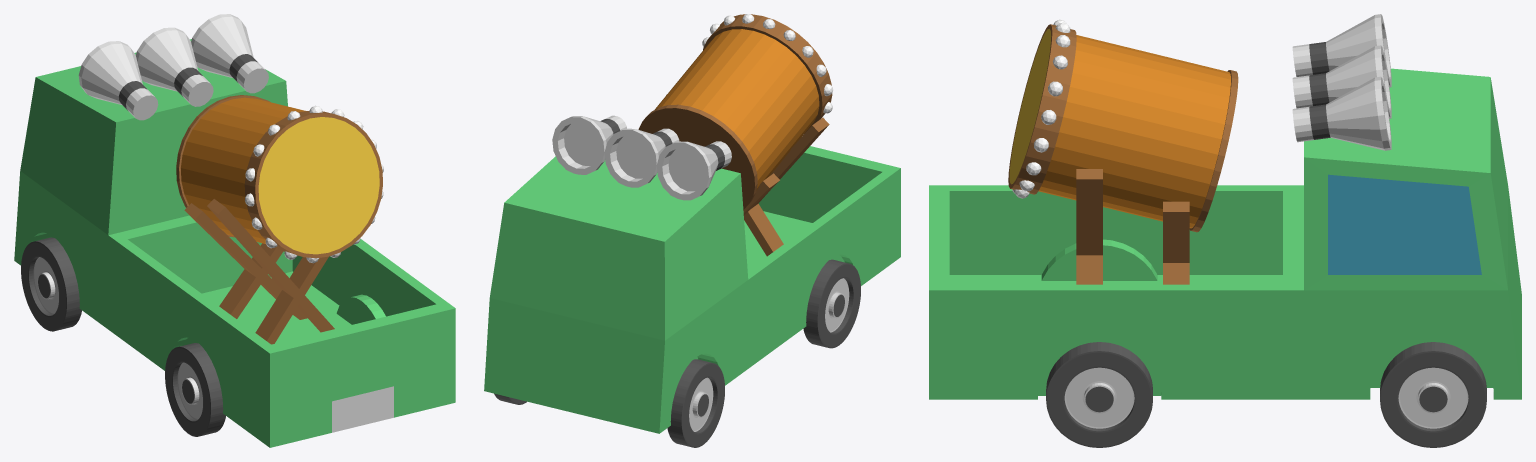
The model's file is bedug.gltf.
3 views of the same model, side by side, from view 1: azimuth 30°, elevation 25°; view 2: azimuth 150°, elevation 25°; view 3: azimuth 270°, elevation 25° (orthographic). The views are drawn at different scales.
Visible parts, largest first — view 1: Cube.001, Cylinder, Cylinder.004, Cube, Cylinder.002, Cylinder.003, Icosphere, Cylinder.001; view 2: Cube.001, Cylinder, Cylinder.004, Cylinder.002, Cylinder.003, Cube, Icosphere; view 3: Cube.001, Cylinder, Cylinder.004, Cylinder.002, Cylinder.003, Cube, Cylinder.001, Icosphere.
Boxes of the visible parts, left/top/right/bottom form: Cube.001: left=14, top=39, right=455, bottom=447; Cylinder: left=176, top=95, right=382, bottom=258; Cylinder.004: left=78, top=14, right=268, bottom=120; Cube: left=184, top=199, right=334, bottom=344; Cylinder.002: left=21, top=237, right=81, bottom=331; Cylinder.003: left=165, top=343, right=225, bottom=436; Icosphere: left=245, top=105, right=383, bottom=263; Cylinder.001: left=182, top=294, right=385, bottom=345; Cube.001: left=484, top=146, right=900, bottom=433; Cylinder: left=638, top=14, right=832, bottom=209; Cylinder.004: left=552, top=115, right=731, bottom=200; Cylinder.002: left=494, top=359, right=724, bottom=447; Cylinder.003: left=803, top=259, right=860, bottom=348; Cube: left=666, top=95, right=829, bottom=256; Icosphere: left=702, top=14, right=832, bottom=134; Cube.001: left=929, top=68, right=1521, bottom=399; Cylinder: left=1008, top=24, right=1238, bottom=232; Cylinder.004: left=1292, top=14, right=1391, bottom=150; Cylinder.002: left=1380, top=342, right=1486, bottom=447; Cylinder.003: left=1046, top=342, right=1152, bottom=447; Cube: left=1076, top=169, right=1189, bottom=284; Cylinder.001: left=1037, top=239, right=1161, bottom=395; Icosphere: left=1012, top=19, right=1070, bottom=198.
Bounding box in the file's own units: 3.37 × 4.95 × 7.36.
